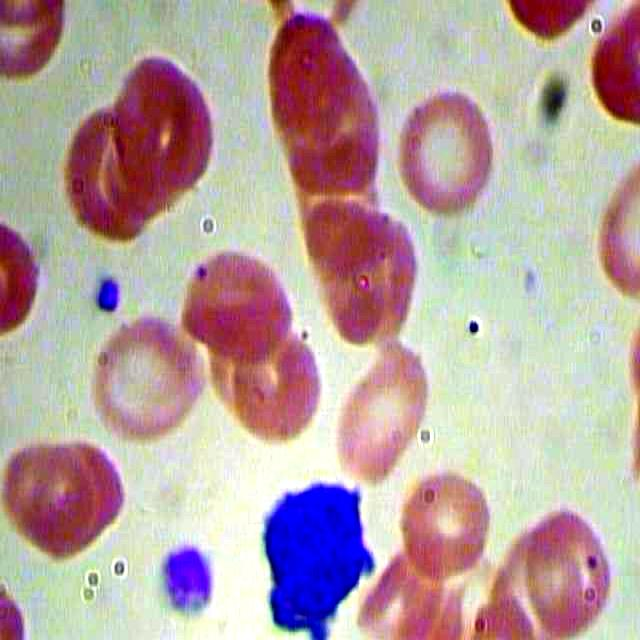Platelets: (161, 534, 216, 626), (82, 269, 122, 324)
RBC: (110, 43, 220, 201), (81, 318, 209, 446), (393, 72, 502, 216), (330, 344, 434, 491), (1, 433, 104, 567), (179, 245, 299, 360), (525, 498, 614, 640), (223, 325, 323, 443), (400, 467, 494, 584)
WBC: (241, 465, 379, 636)
